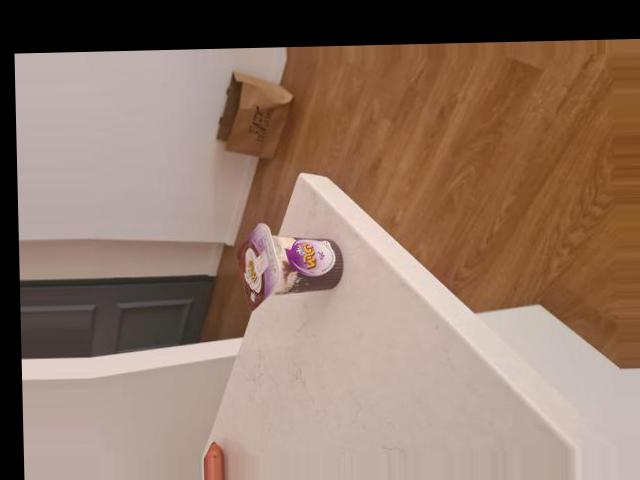milky: (235, 216, 342, 307)
